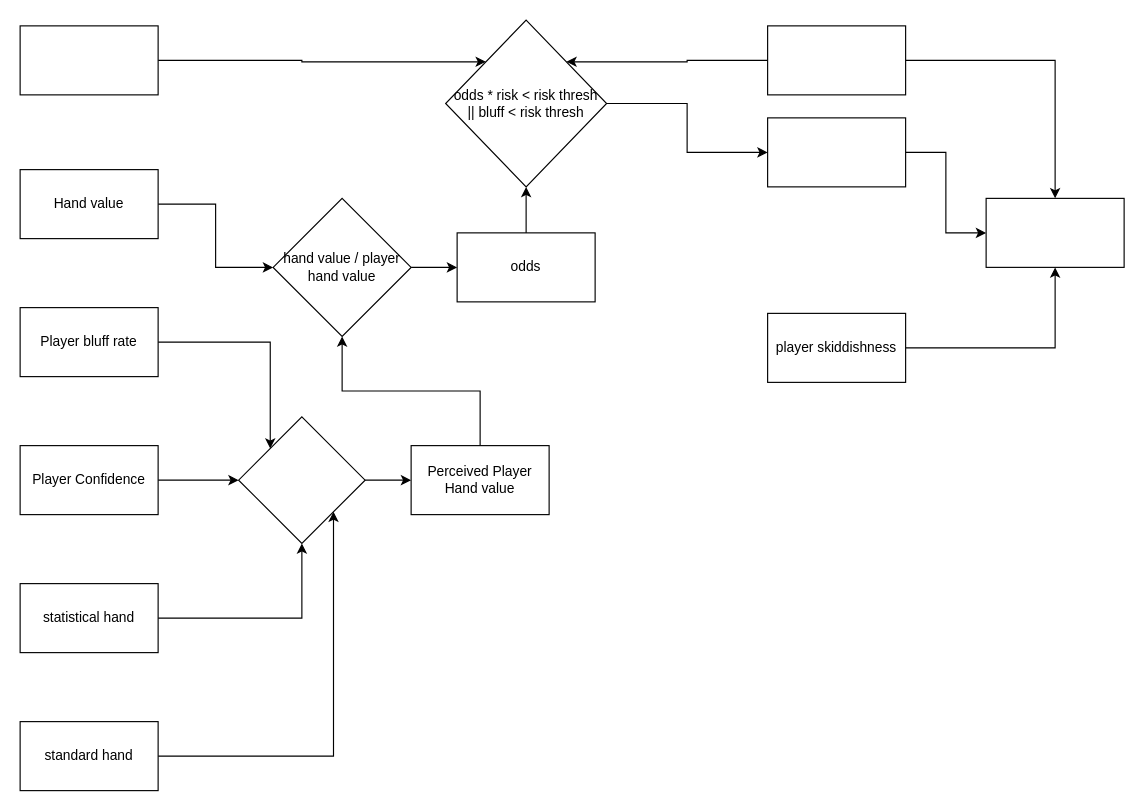
Some shapes in this 1144 by 811 pixel diagram are drawn without their labels. The centre of each missing label's shape, as x and y in pixels:
"bluff" belongs at (x=88, y=60).
"call raise fold" belongs at (x=836, y=152).
"raise amount" belongs at (x=1054, y=232).
"Riskiness" belongs at (x=836, y=60).
"statistical hand + bluff rate * confidence" belongs at (x=301, y=479).
